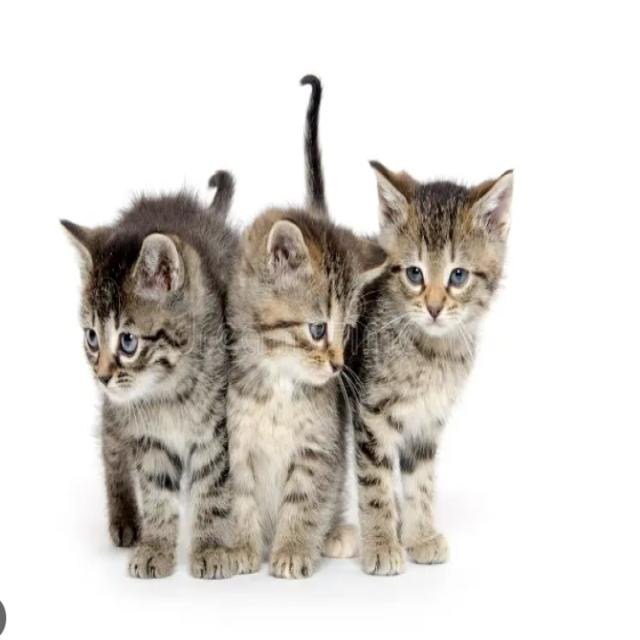cats: (48, 193, 230, 583), (376, 147, 510, 569), (232, 190, 371, 595)
